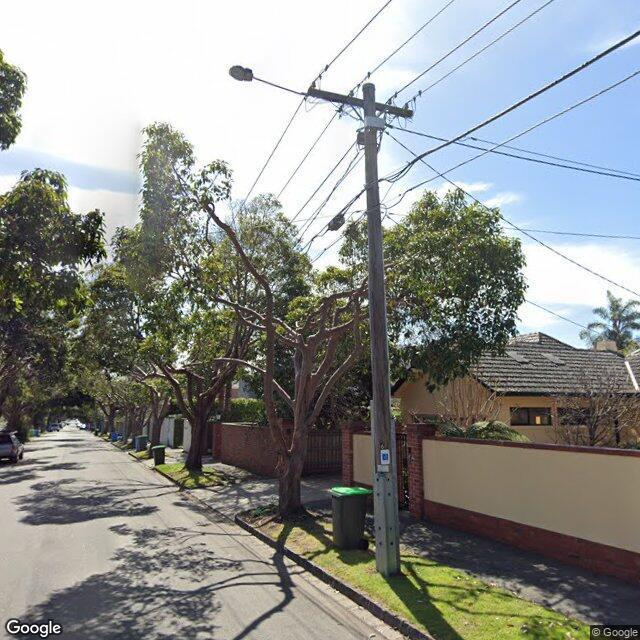crossarm: (304, 63, 423, 119)
streetlight: (229, 65, 307, 97)
timber-pole: (361, 82, 400, 577)
